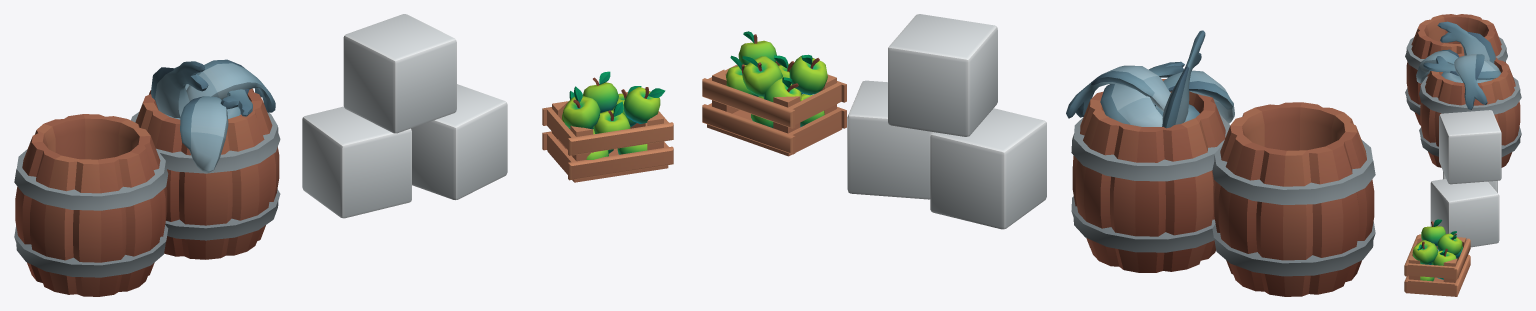
Rendered from bld_cold_cellar_2x2.glb.
3 renders of one model, left to right at view 1: azimuth 30°, elevation 25°; view 2: azimuth 150°, elevation 25°; view 3: azimuth 270°, elevation 25°, orthographic. The views are drawn at different scales.
Visible parts, largest first — view 1: Food_Barrel_Empty, Food_Barrel_Fish, snow3, Food_Crate_Large_Apples, snow, snow2; view 2: Food_Barrel_Fish, Food_Barrel_Empty, Food_Crate_Large_Apples, snow3, snow, snow2; view 3: Food_Barrel_Fish, snow3, Food_Crate_Large_Apples, snow2, Food_Barrel_Empty.
Boxes of the visible parts, x1,y1,x2,y2 form: Food_Barrel_Empty: (14, 114, 168, 296); Food_Barrel_Fish: (131, 59, 280, 259); snow3: (343, 14, 456, 133); Food_Crate_Large_Apples: (542, 71, 673, 182); snow: (302, 106, 411, 218); snow2: (411, 84, 507, 200); Food_Barrel_Fish: (1066, 30, 1234, 272); Food_Barrel_Empty: (1212, 102, 1375, 296); Food_Crate_Large_Apples: (702, 31, 846, 156); snow3: (888, 14, 997, 136); snow: (930, 108, 1046, 229); snow2: (847, 80, 932, 199); Food_Barrel_Fish: (1416, 21, 1521, 167); snow3: (1439, 110, 1501, 184); Food_Crate_Large_Apples: (1404, 219, 1470, 296); snow2: (1430, 179, 1499, 247); Food_Barrel_Empty: (1405, 14, 1507, 125).
Bounding box in the file's own units: 1.74 × 0.5118 × 0.4274.
Materials: 4 (4 with a texture image).
